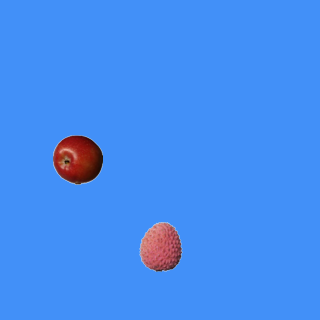Apple Braeburn: (52, 134, 102, 184)
Lychee: (135, 221, 185, 271)
